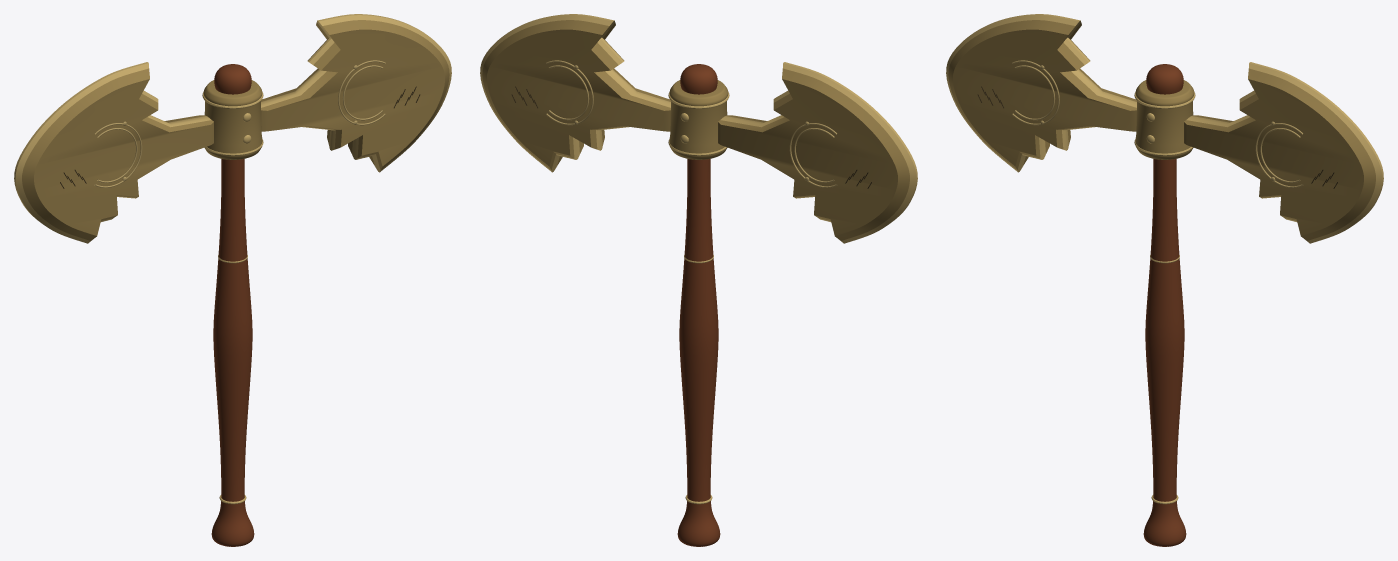
3 views of the same model, side by side, from view 1: azimuth 30°, elevation 25°; view 2: azimuth 150°, elevation 25°; view 3: azimuth 330°, elevation 25° (orthographic).
Parts seen in each view (by area): view 1: TI064 / solid profiled crescent blade -1, TI064 / solid profiled crescent blade 1, TI064 / turned hardwood haft with tapered grip, TI064 / solid bronze head socket; view 2: TI064 / solid profiled crescent blade -1, TI064 / solid profiled crescent blade 1, TI064 / turned hardwood haft with tapered grip, TI064 / solid bronze head socket; view 3: TI064 / solid profiled crescent blade 1, TI064 / solid profiled crescent blade -1, TI064 / turned hardwood haft with tapered grip, TI064 / solid bronze head socket.
Boxes of the visible parts, x1=… form: TI064 / solid profiled crescent blade -1: x1=14, y1=62, x2=213, y2=243; TI064 / solid profiled crescent blade 1: x1=261, y1=14, x2=451, y2=172; TI064 / turned hardwood haft with tapered grip: x1=211, y1=64, x2=254, y2=546; TI064 / solid bronze head socket: x1=203, y1=80, x2=262, y2=159; TI064 / solid profiled crescent blade -1: x1=718, y1=62, x2=917, y2=243; TI064 / solid profiled crescent blade 1: x1=480, y1=14, x2=670, y2=172; TI064 / turned hardwood haft with tapered grip: x1=677, y1=64, x2=720, y2=546; TI064 / solid bronze head socket: x1=669, y1=80, x2=728, y2=159; TI064 / solid profiled crescent blade 1: x1=1184, y1=62, x2=1383, y2=243; TI064 / solid profiled crescent blade -1: x1=946, y1=14, x2=1136, y2=172; TI064 / turned hardwood haft with tapered grip: x1=1143, y1=64, x2=1186, y2=546; TI064 / solid bronze head socket: x1=1135, y1=80, x2=1194, y2=159.
Size of the model in its own units: 2.72 by 2.98 by 0.33.
